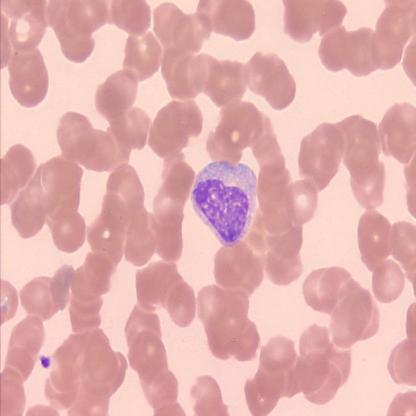Metamyelocyte: (190, 156, 258, 249)
